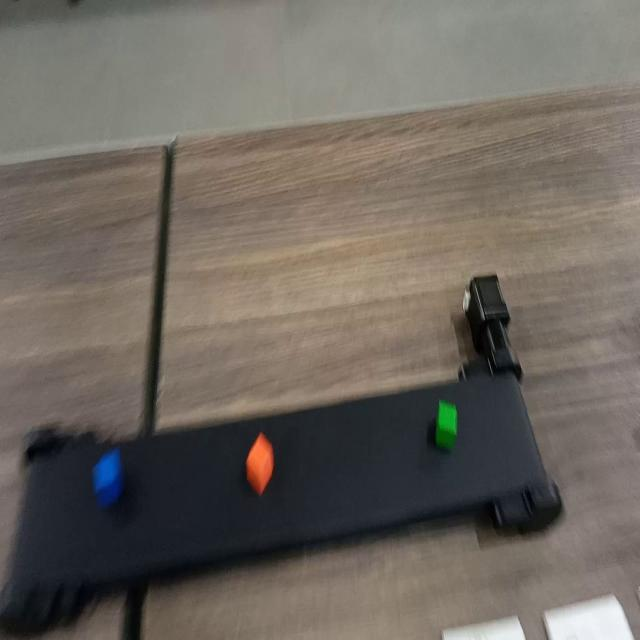cube: (88, 433, 132, 509), (430, 390, 470, 455)
